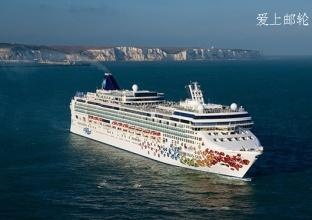youlun: (68, 68, 262, 179)
